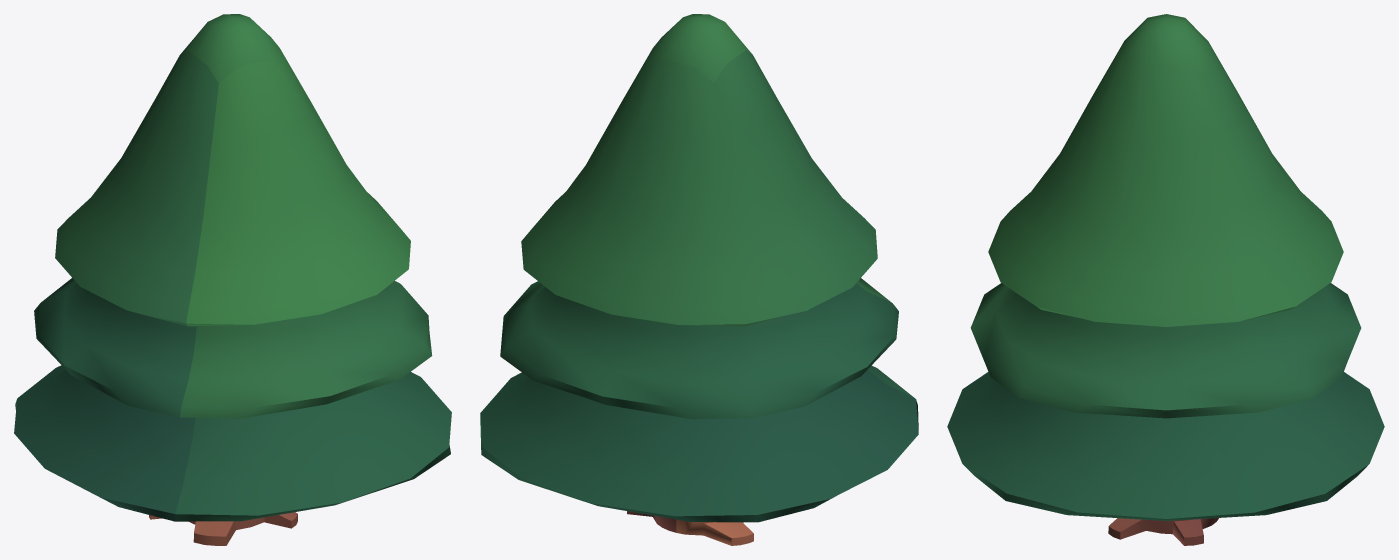
File: christmas_tree01.fbx
3 views of the same model, side by side, from view 1: azimuth 30°, elevation 25°; view 2: azimuth 150°, elevation 25°; view 3: azimuth 270°, elevation 25° (orthographic).
Parts seen in each view (by area): view 1: Tree.002; view 2: Tree.002; view 3: Tree.002.
Boxes of the visible parts, box(x1,y1,x2,y2) form: Tree.002: box(14, 14, 451, 545); Tree.002: box(480, 14, 918, 545); Tree.002: box(947, 14, 1384, 545).
Bounding box in the file's own units: 47.72 × 47.7 × 60.24.
